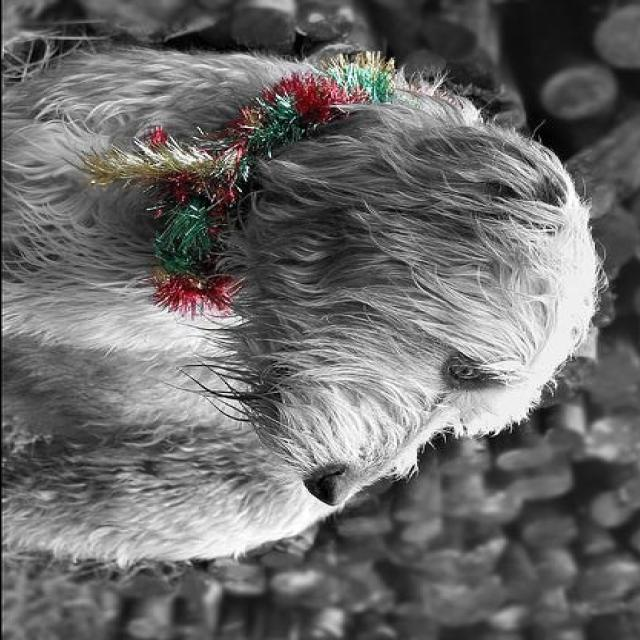irish_wolfhound: (3, 34, 611, 570)
